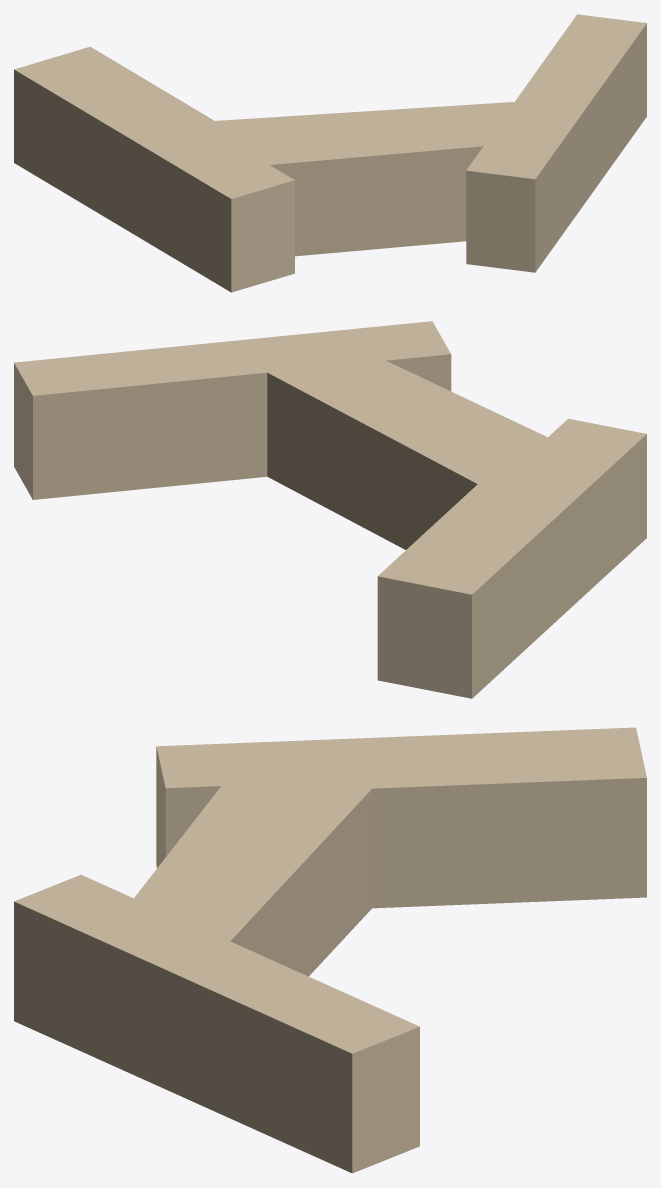
The model's file is 6_5-estimated-coarse.glb.
3 views of the same model, one above another, from view 1: azimuth 30°, elevation 25°; view 2: azimuth 150°, elevation 25°; view 3: azimuth 270°, elevation 25° (orthographic). The views are drawn at different scales.
Bounding box in the file's own units: 70.15 × 12 × 57.51.
